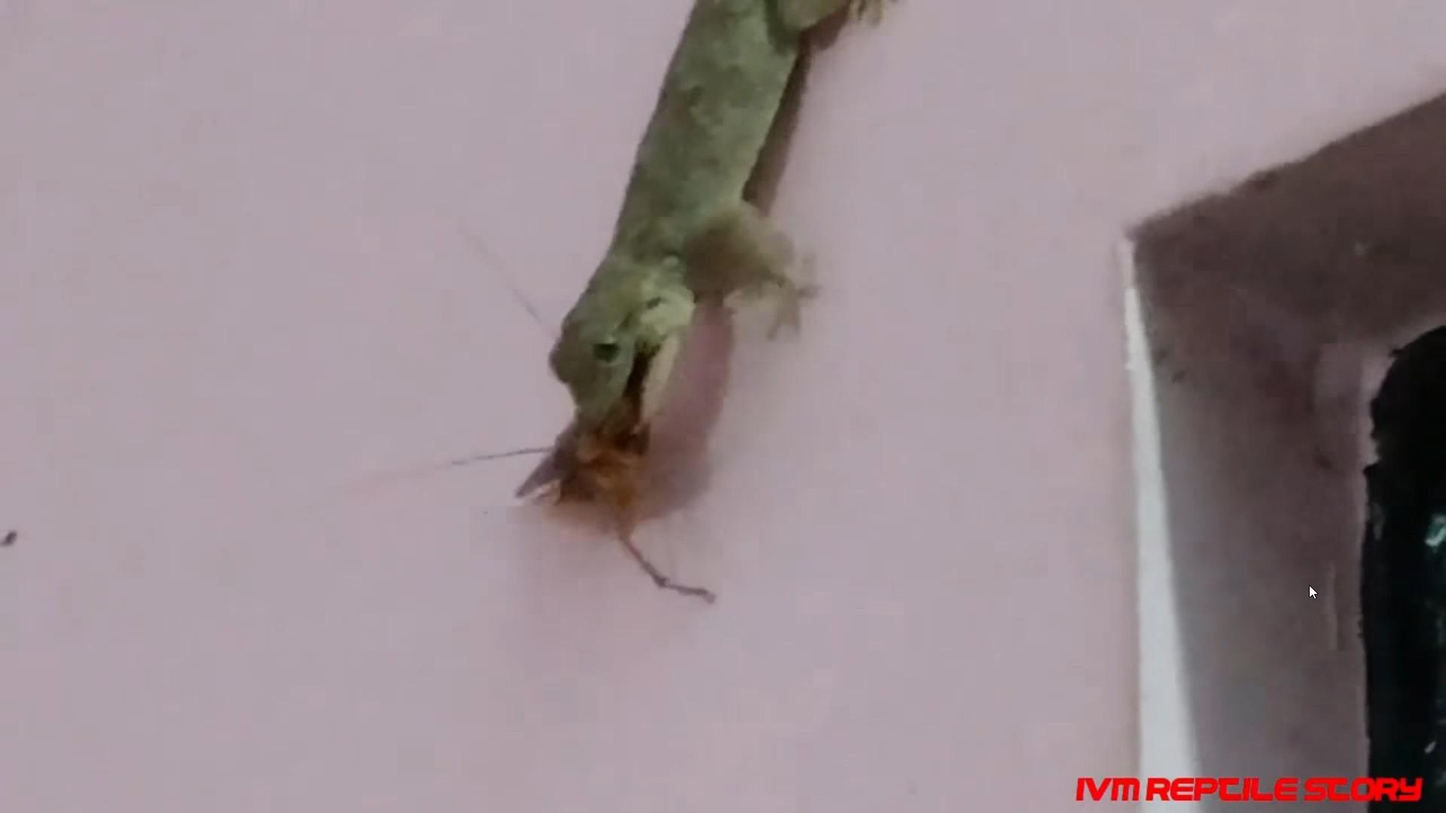cockroach: (513, 412, 672, 519)
lizard: (538, 21, 847, 424)
